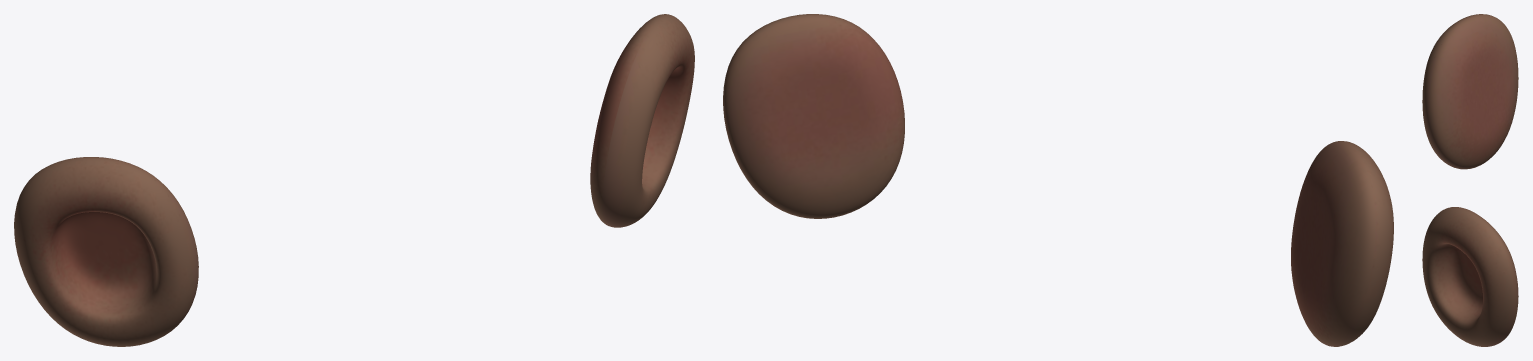
File: ear0.glb
3 views of the same model, side by side, from view 1: azimuth 30°, elevation 25°; view 2: azimuth 150°, elevation 25°; view 3: azimuth 270°, elevation 25° (orthographic). The views are drawn at different scales.
Visible parts, largest first — view 1: ears.000; view 2: ears.000; view 3: ears.000.
Part boxes in pixels (left/top/right/bottom): ears.000: left=14, top=14, right=694, bottom=346; ears.000: left=723, top=14, right=1393, bottom=346; ears.000: left=1422, top=14, right=1518, bottom=346.
Bounding box in the file's own units: 1.74 × 0.4844 × 0.303.
1 material, 1 textured.
